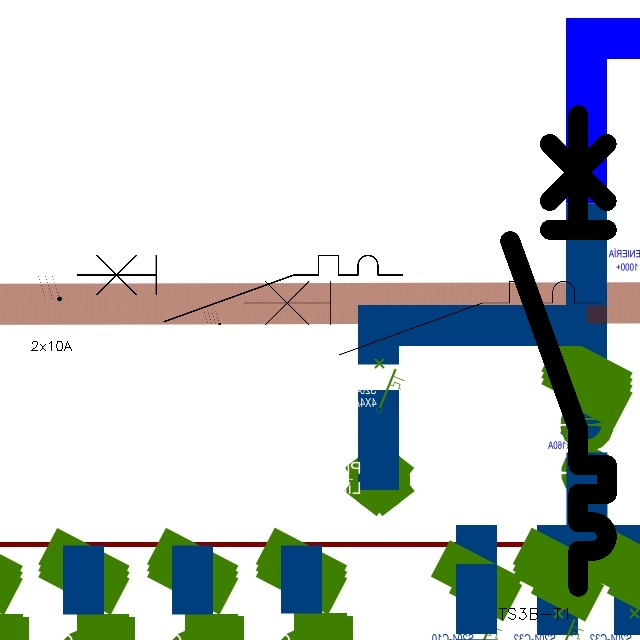interruptor_termomagnetico: (498, 103, 619, 599), (234, 272, 611, 364), (68, 247, 410, 330)
